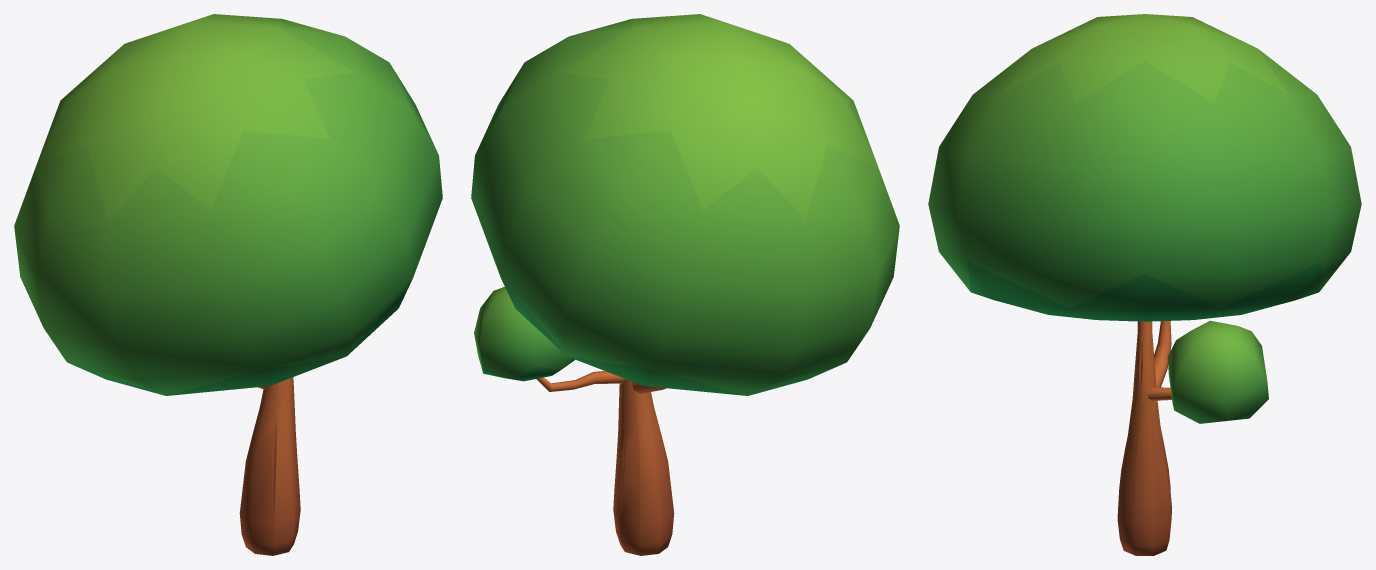
File: Tree_A_1x1.glb
3 renders of one model, left to right at view 1: azimuth 30°, elevation 25°; view 2: azimuth 150°, elevation 25°; view 3: azimuth 270°, elevation 25°, orthographic. The views are drawn at different scales.
Visible parts, largest first — view 1: Tree_A_1x1; view 2: Tree_A_1x1; view 3: Tree_A_1x1.
Boxes of the visible parts, x1,y1,x2,y2 form: Tree_A_1x1: (14, 14, 442, 555); Tree_A_1x1: (471, 14, 899, 555); Tree_A_1x1: (928, 14, 1361, 555).
Bounding box in the file's own units: 3.18 × 4.16 × 3.25.
1 material, 1 textured.
